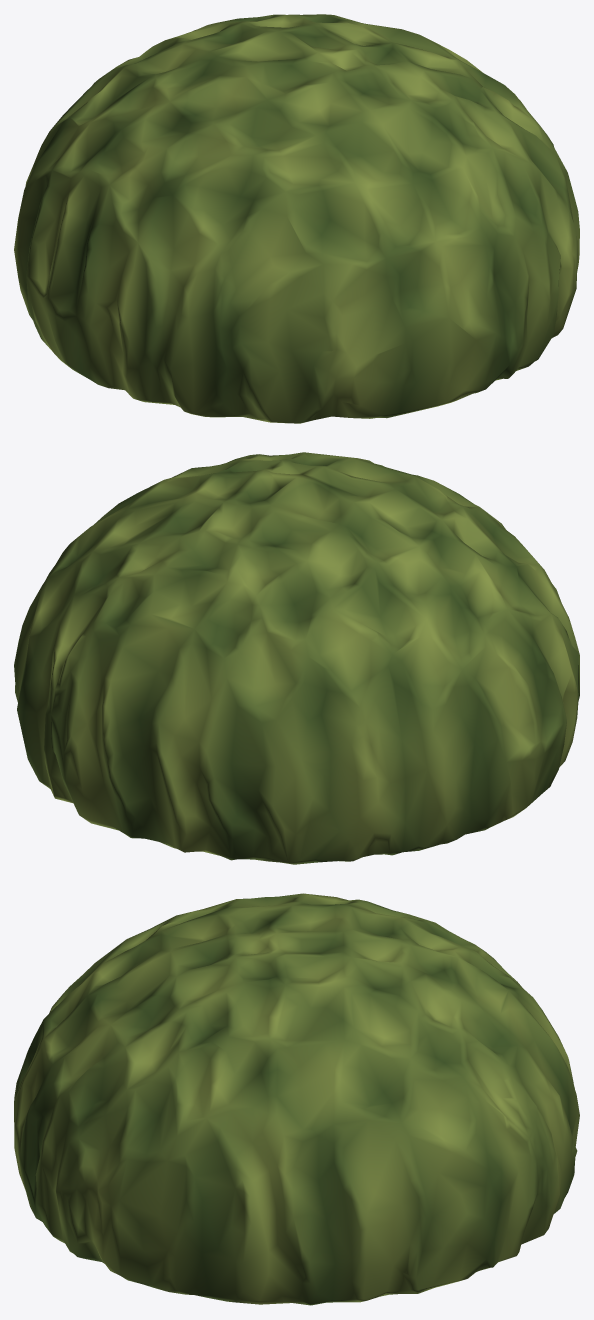
The model's file is kt_coral_brain.glb.
3 views of the same model, one above another, from view 1: azimuth 30°, elevation 25°; view 2: azimuth 150°, elevation 25°; view 3: azimuth 270°, elevation 25° (orthographic).
Visible parts, largest first — view 1: kt_coral_brain; view 2: kt_coral_brain; view 3: kt_coral_brain.
Part boxes in pixels (<box>): kt_coral_brain: <box>14,14,579,423</box>; kt_coral_brain: <box>14,452,579,864</box>; kt_coral_brain: <box>14,893,579,1305</box>.
Bounding box in the file's own units: 1.09 × 0.5681 × 1.09.
